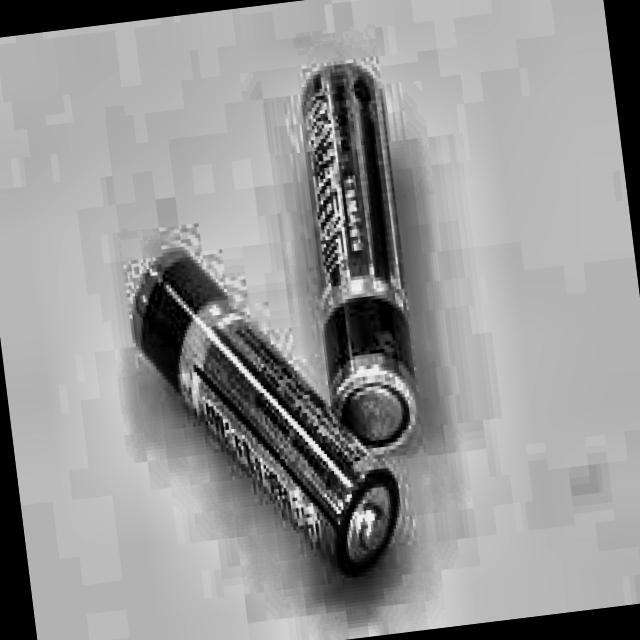Battery: (122, 224, 406, 600), (287, 60, 422, 449)
